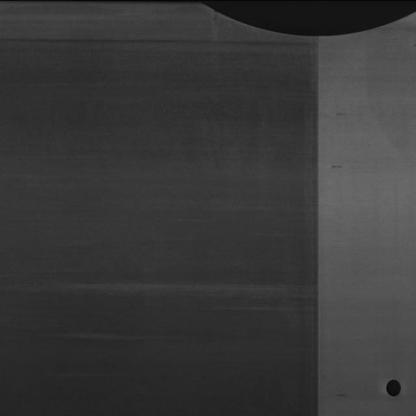punching_hole: (382, 376, 408, 399)
welding_line: (303, 32, 334, 416)
